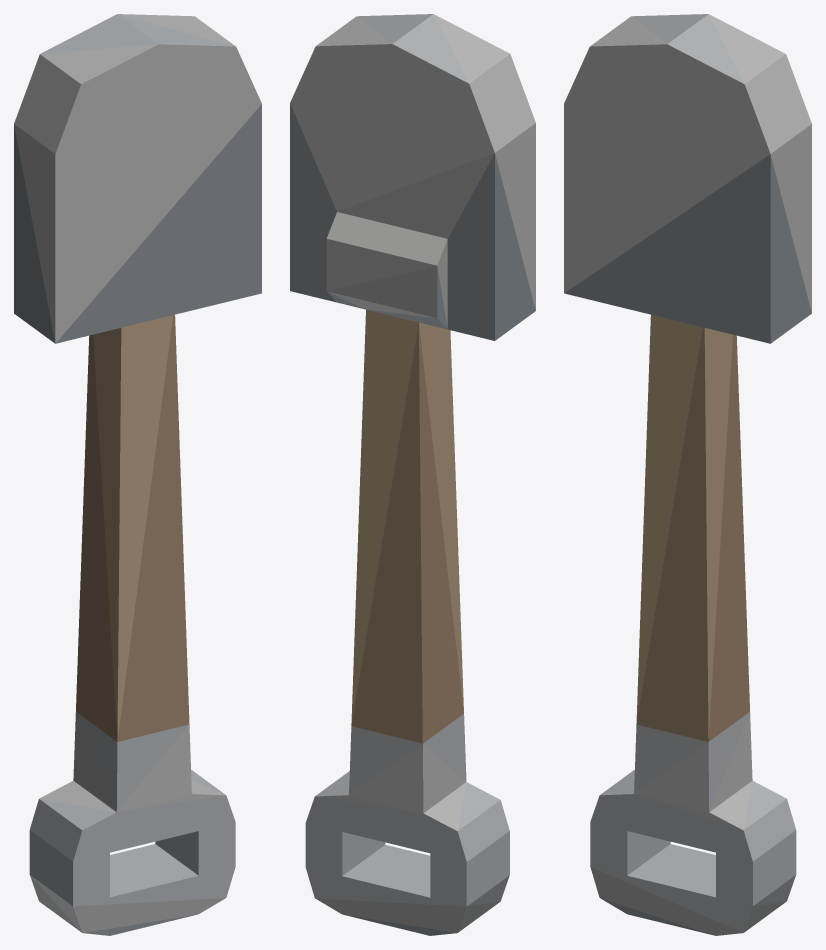
3 views of the same model, side by side, from view 1: azimuth 30°, elevation 25°; view 2: azimuth 150°, elevation 25°; view 3: azimuth 330°, elevation 25° (orthographic).
Parts seen in each view (by area): view 1: model; view 2: model; view 3: model.
Boxes of the visible parts, left/top/right/bottom form: model: left=14, top=14, right=261, bottom=935; model: left=290, top=14, right=535, bottom=935; model: left=564, top=14, right=811, bottom=935.
Size of the model in its own units: 0.1773 by 0.725 by 0.0773.
